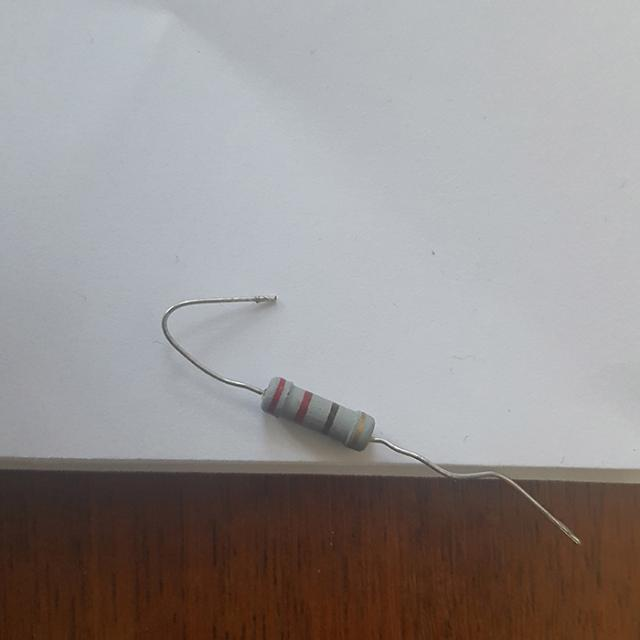brown: (322, 402, 338, 435)
gold: (347, 413, 365, 448)
red: (266, 378, 285, 413), (292, 391, 311, 423)
resistor: (235, 355, 396, 474)
